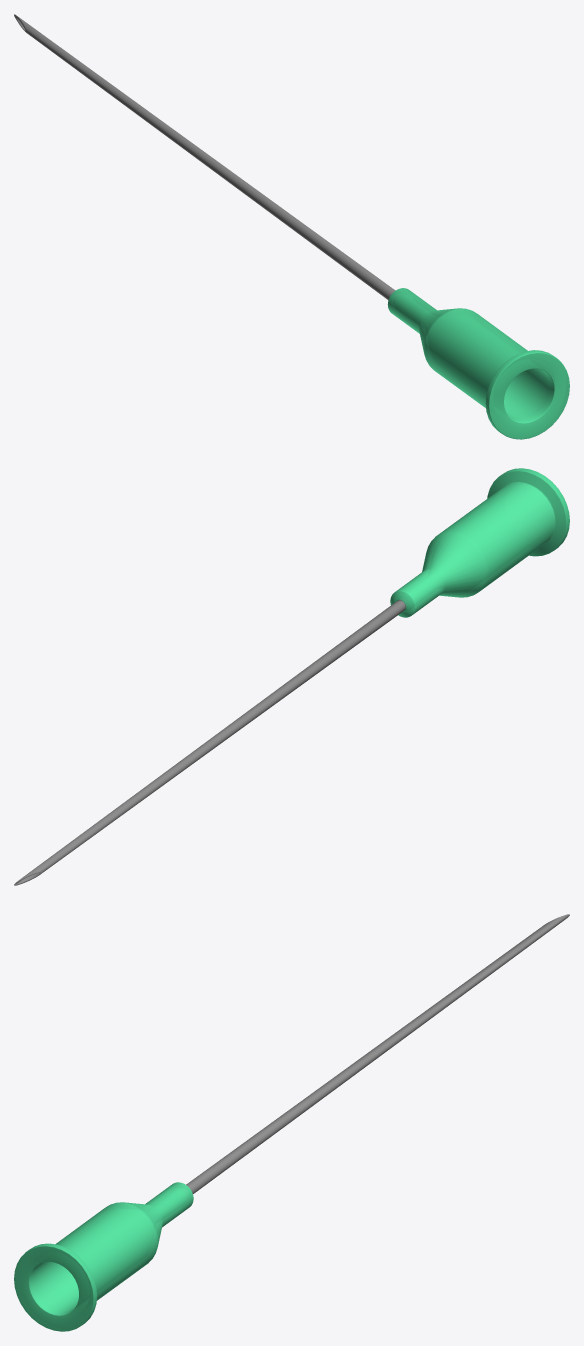
File: Agulha2.fbx
3 views of the same model, one above another, from view 1: azimuth 30°, elevation 25°; view 2: azimuth 150°, elevation 25°; view 3: azimuth 330°, elevation 25° (orthographic).
Parts seen in each view (by area): view 1: Tip.001; view 2: Tip.001; view 3: Tip.001.
Boxes of the visible parts, box(x1,y1,x2,y2) form: Tip.001: box(14, 14, 569, 439); Tip.001: box(14, 468, 569, 885); Tip.001: box(14, 914, 569, 1331).
Bounding box in the file's own units: 15.53 × 15.53 × 172.
